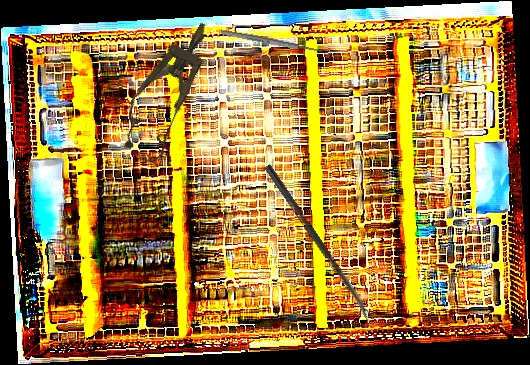Speculum: (109, 10, 229, 168)
Surgical Spoon: (263, 164, 374, 322), (219, 28, 332, 57)
